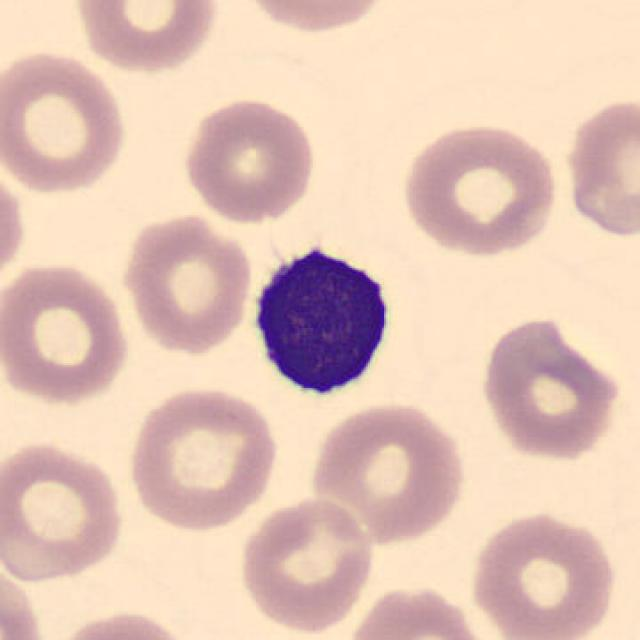Lymphocyte: (240, 233, 405, 407)
RBC: (306, 396, 469, 546), (122, 381, 282, 532), (396, 118, 562, 259), (474, 314, 626, 464), (234, 492, 378, 635), (466, 508, 620, 640), (0, 44, 132, 198), (117, 210, 256, 356), (0, 258, 135, 408), (0, 436, 128, 586), (178, 94, 320, 225), (558, 94, 638, 244), (71, 0, 222, 76), (343, 582, 496, 640), (231, 0, 397, 37), (46, 606, 197, 640), (0, 555, 48, 640), (0, 155, 30, 291)
